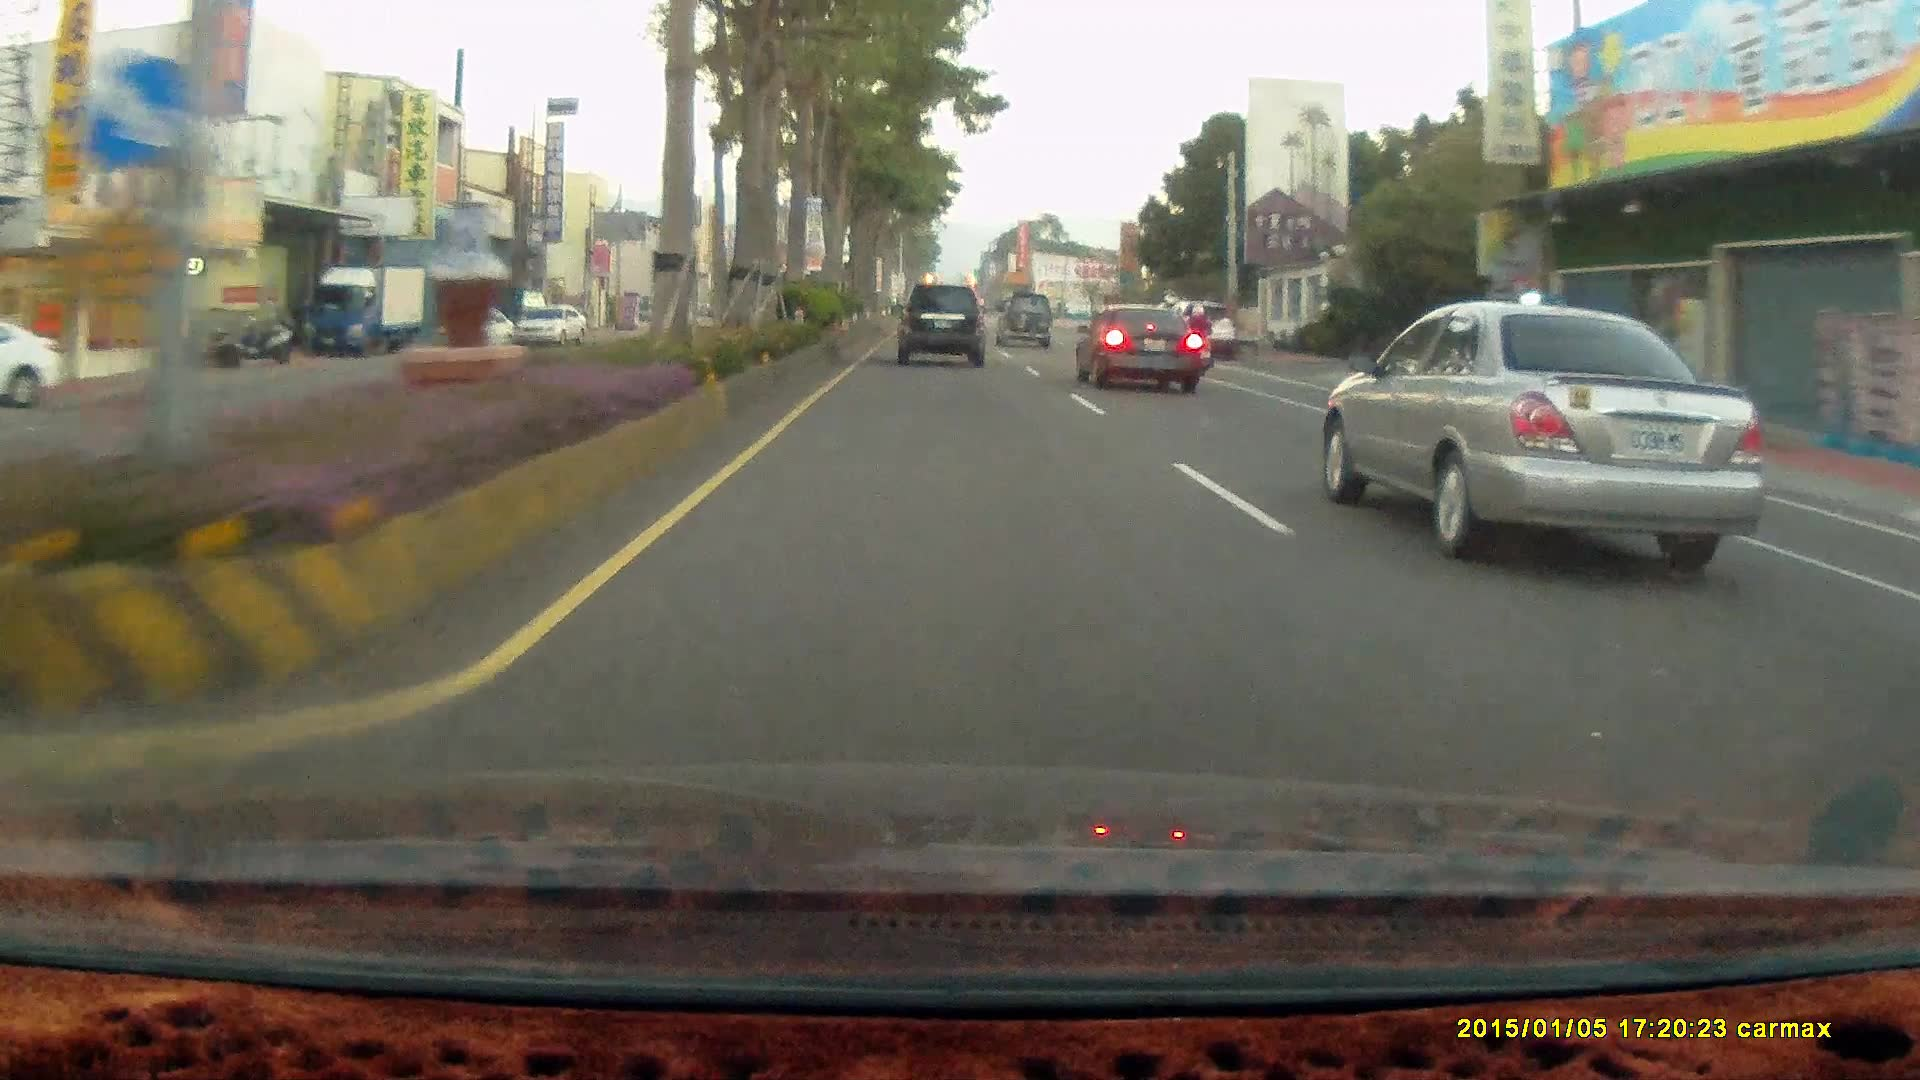rider: (1173, 302, 1217, 377)
vehicle: (1305, 298, 1758, 562), (1071, 301, 1202, 394), (301, 263, 428, 356), (301, 264, 429, 357), (1072, 305, 1202, 394), (893, 282, 988, 371), (895, 284, 982, 368), (1, 320, 66, 409), (0, 320, 65, 408), (1172, 297, 1245, 363), (432, 308, 522, 360), (430, 305, 518, 354), (993, 290, 1055, 351), (510, 305, 588, 349)
